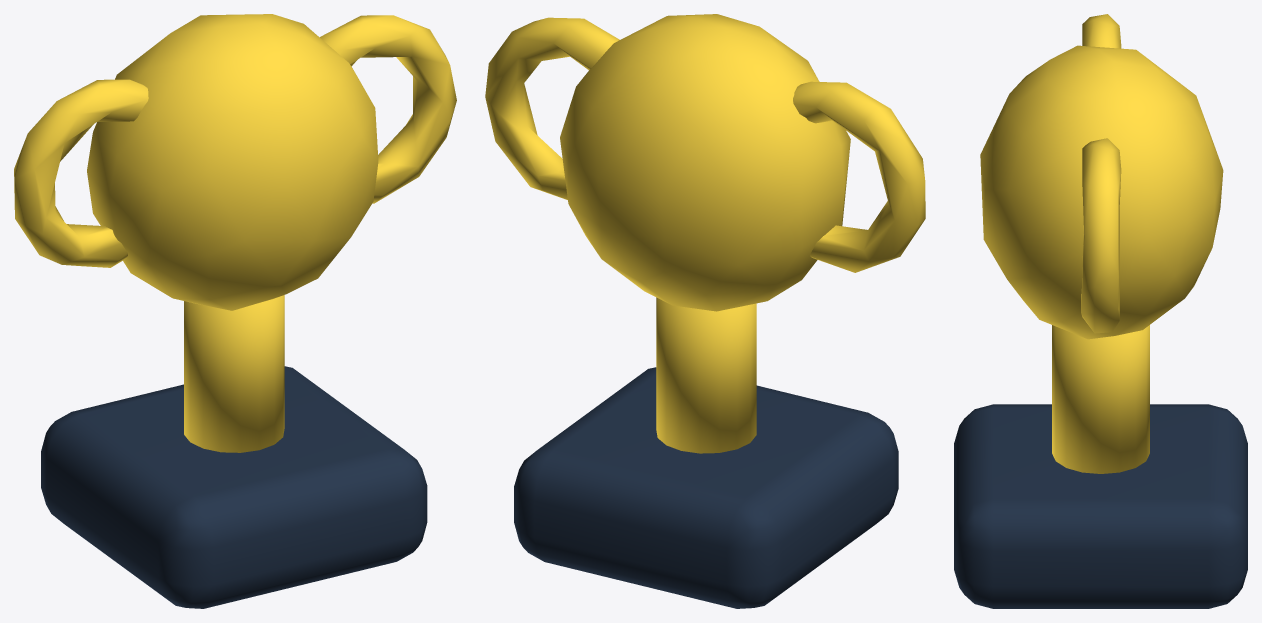
Rendered from Championship_trophy_LOD2.glb.
The picture shows the model from 3 angles, left to right: view 1: azimuth 30°, elevation 25°; view 2: azimuth 150°, elevation 25°; view 3: azimuth 270°, elevation 25°; orthographic projection. The views are drawn at different scales.
Visible parts, largest first — view 1: Cup, Plinth, Stem, Handle, Handle.001; view 2: Cup, Plinth, Stem, Handle, Handle.001; view 3: Plinth, Cup, Stem, Handle.001, Handle.
Part boxes in pixels (left/top/right/bottom): Cup: left=87, top=14, right=378, bottom=310; Plinth: left=41, top=366, right=427, bottom=608; Stem: left=184, top=295, right=284, bottom=452; Handle: left=14, top=79, right=148, bottom=267; Handle.001: left=320, top=15, right=456, bottom=203; Cup: left=560, top=14, right=850, bottom=311; Plinth: left=514, top=367, right=898, bottom=608; Stem: left=656, top=297, right=756, bottom=453; Handle: left=793, top=81, right=925, bottom=272; Handle.001: left=485, top=17, right=619, bottom=199; Plinth: left=954, top=404, right=1247, bottom=608; Cup: left=980, top=45, right=1223, bottom=339; Stem: left=1052, top=325, right=1149, bottom=473; Handle.001: left=1081, top=138, right=1121, bottom=333; Handle: left=1082, top=14, right=1121, bottom=48.
Bounding box in the file's own units: 0.9991 × 1.13 × 0.6.
